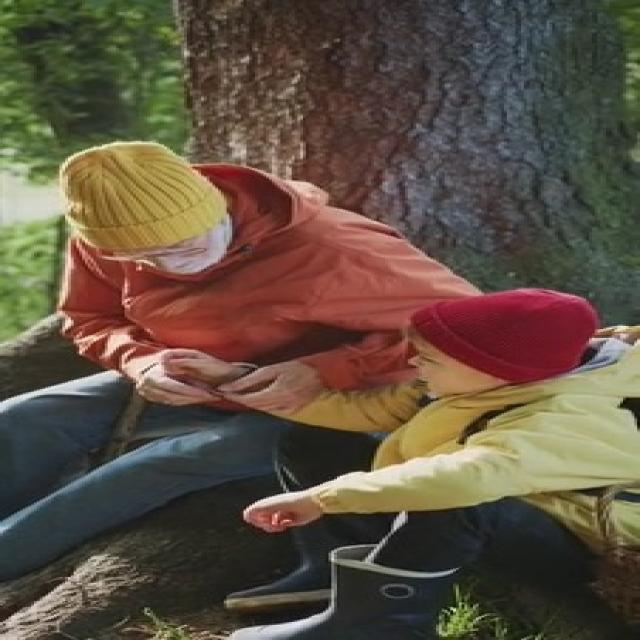Jacket_Wearer: (49, 204, 501, 383)
Person: (63, 146, 466, 474)
